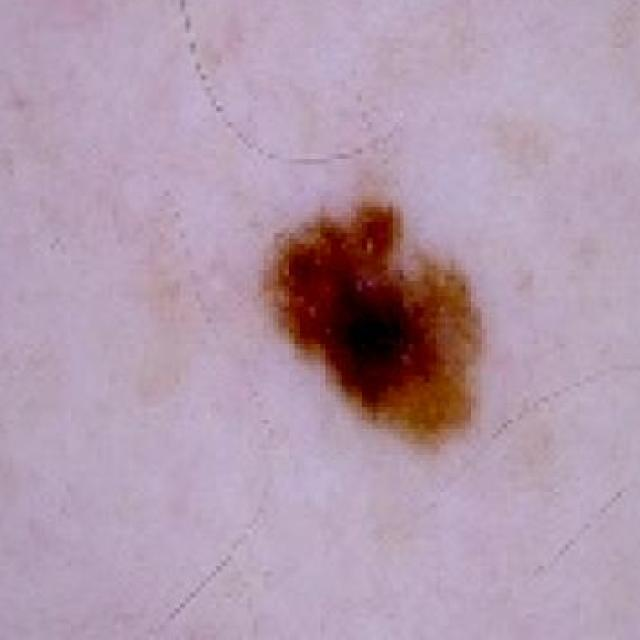MEL: (247, 126, 504, 527)
